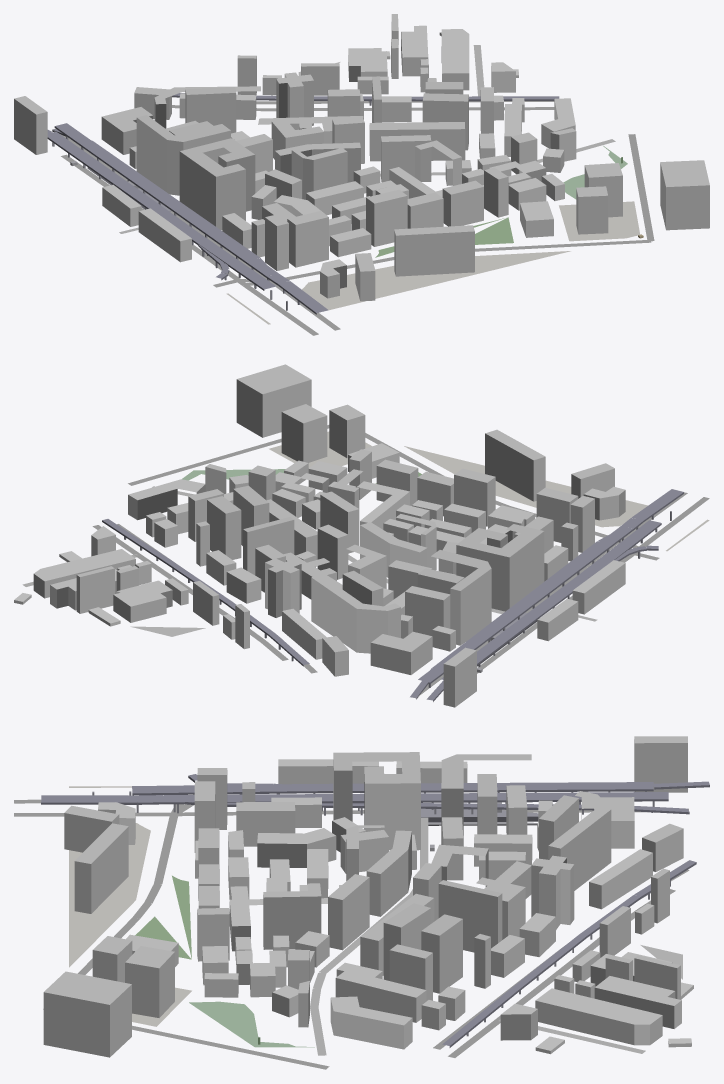
3 renders of one model, top to bottom at view 1: azimuth 30°, elevation 25°; view 2: azimuth 150°, elevation 25°; view 3: azimuth 270°, elevation 25°, orthographic. The views are drawn at different scales.
Bounding box in the file's own units: 562 × 70.9 × 567.
